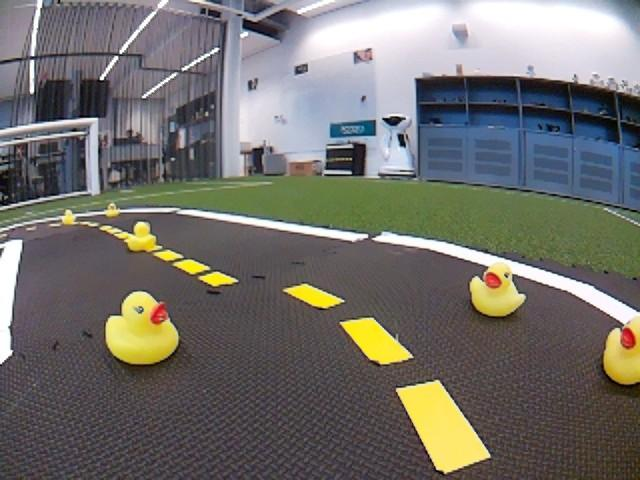Duckies: (104, 291, 178, 366), (469, 264, 528, 318), (603, 314, 639, 385), (127, 222, 156, 251), (62, 210, 76, 224), (104, 203, 119, 216)
